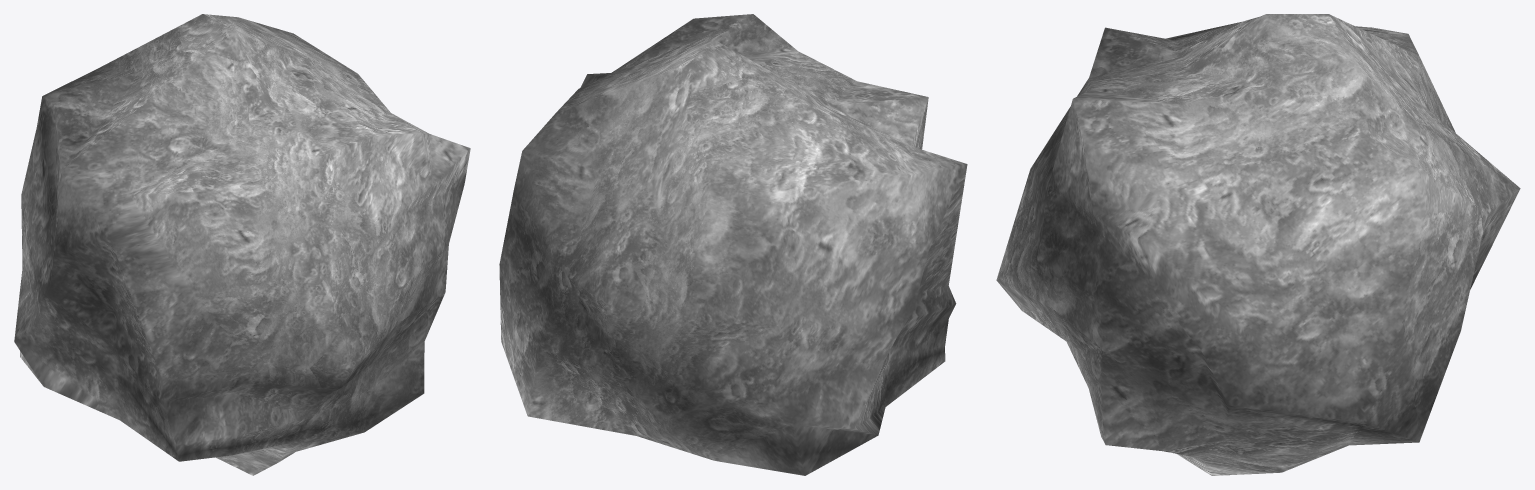
The model's file is asteroid.obj.
3 renders of one model, left to right at view 1: azimuth 30°, elevation 25°; view 2: azimuth 150°, elevation 25°; view 3: azimuth 270°, elevation 25°, orthographic. The views are drawn at different scales.
Parts seen in each view (by area): view 1: Asteroid_Cube.003; view 2: Asteroid_Cube.003; view 3: Asteroid_Cube.003.
Boxes of the visible parts, x1=… form: Asteroid_Cube.003: x1=14, y1=14, x2=470, y2=475; Asteroid_Cube.003: x1=499, y1=14, x2=967, y2=475; Asteroid_Cube.003: x1=996, y1=14, x2=1520, y2=475.
Size of the model in its own units: 3.09 by 3.32 by 3.39.
Materials: 1 (1 with a texture image).
